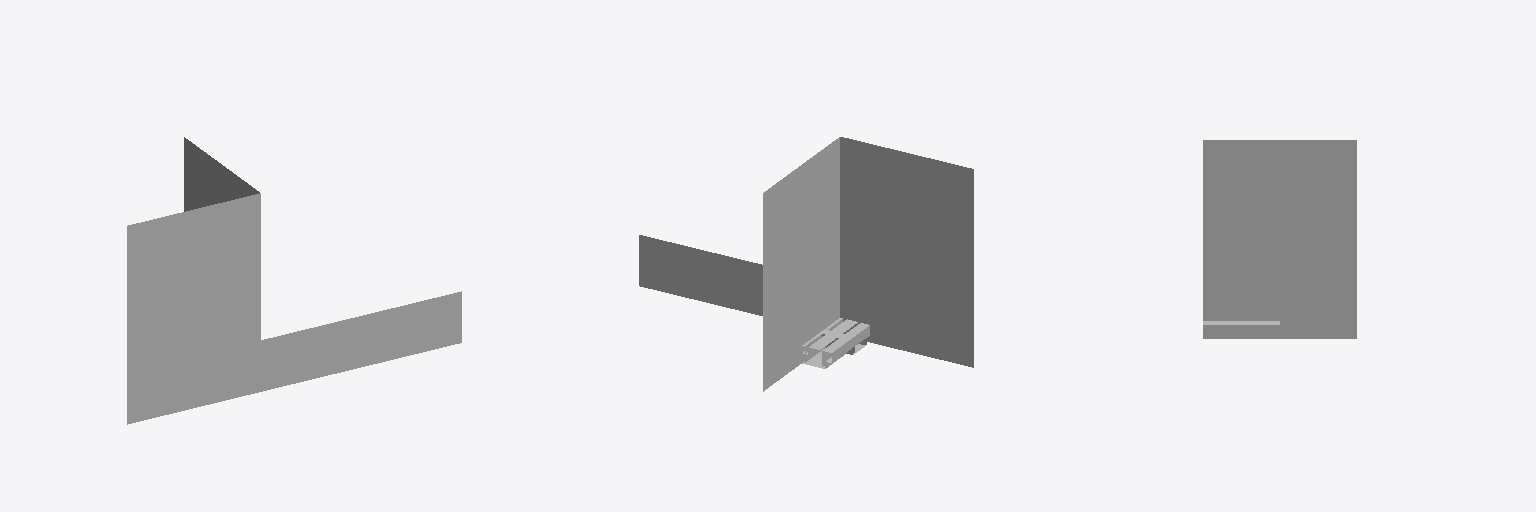
Rendered from Corner_GRP.obj.
3 renders of one model, left to right at view 1: azimuth 30°, elevation 25°; view 2: azimuth 150°, elevation 25°; view 3: azimuth 270°, elevation 25°, orthographic.
Visible parts, largest first — view 1: WallCorner_GRP Wall_Corner, WallCorner_GRP Wall_Corner2, WallCorner_GRP WallCapStraight; view 2: WallCorner_GRP Wall_Corner, WallCorner_GRP WallCapStraight, WallCorner_GRP GutterStraight, WallCorner_GRP Wall_Corner2, WallCorner_GRP WallCapAngle; view 3: WallCorner_GRP Wall_Corner, WallCorner_GRP Wall_Corner2, WallCorner_GRP GutterStraight.
Part boxes in pixels (x1,y1,x2,y2): WallCorner_GRP Wall_Corner: (127,137,260,424); WallCorner_GRP Wall_Corner2: (194,168,260,407); WallCorner_GRP WallCapStraight: (261,291,461,391); WallCorner_GRP Wall_Corner: (763,137,973,391); WallCorner_GRP WallCapStraight: (639,235,762,301); WallCorner_GRP GutterStraight: (802,318,869,368); WallCorner_GRP Wall_Corner2: (819,137,840,331); WallCorner_GRP WallCapAngle: (706,293,762,315); WallCorner_GRP Wall_Corner: (1203,140,1356,338); WallCorner_GRP Wall_Corner2: (1203,140,1272,338); WallCorner_GRP GutterStraight: (1203,321,1279,338).
Bounding box in the file's own units: 5.03 × 2.85 × 2.01.